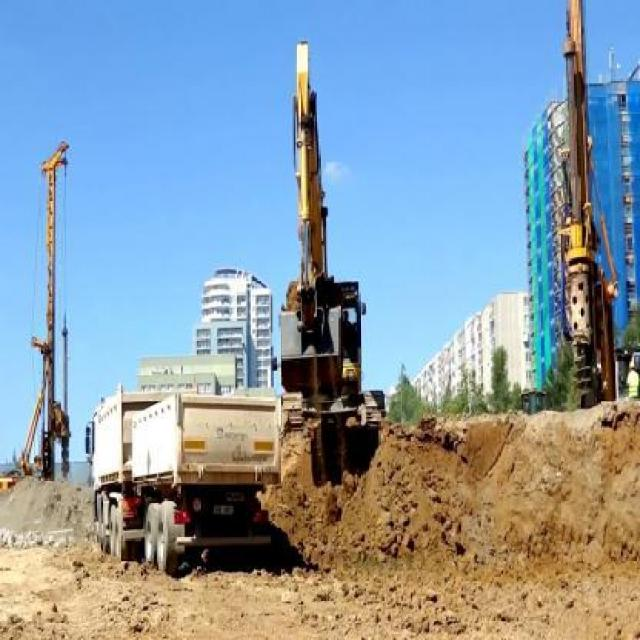Dump Truck: (86, 378, 282, 574)
Excavator: (278, 40, 384, 431)
